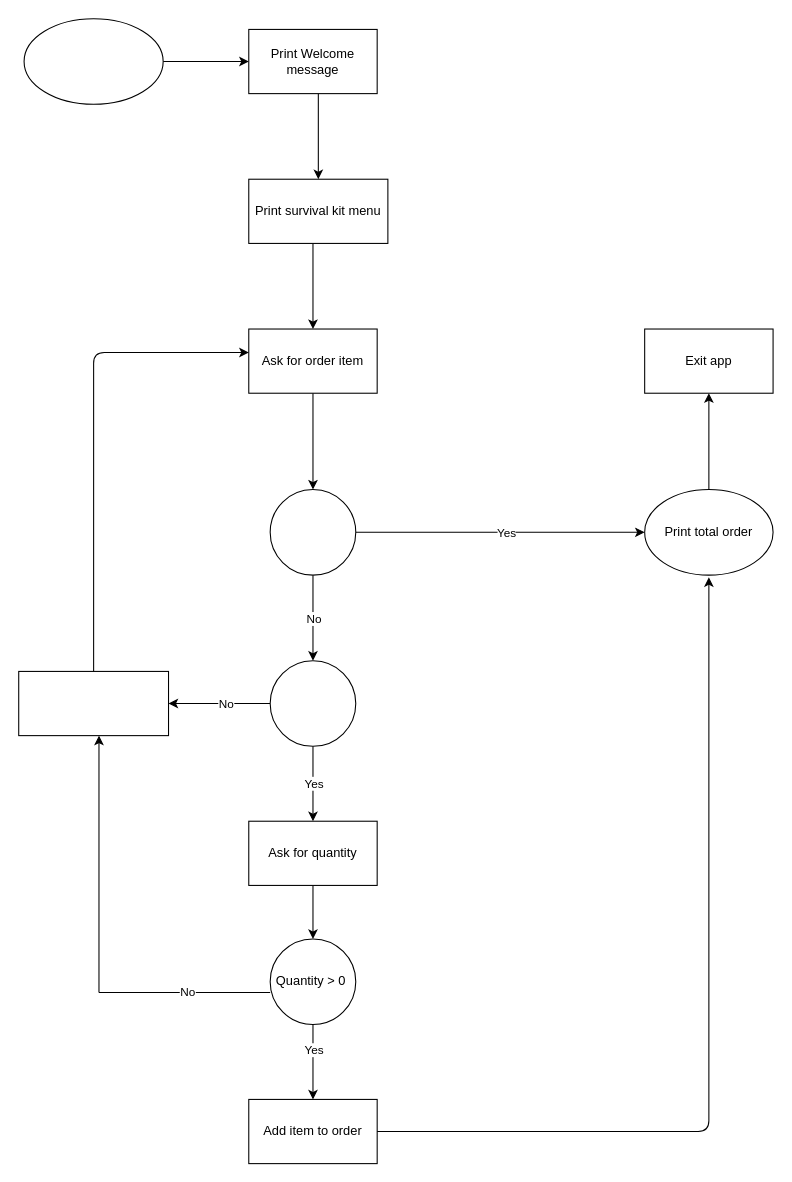
This 792x1182 diagram has some shape labels left out. The shapes that lost their labels are listed below. From the top down, each one's box as (x1, y1, x2, y2) in pixels, then its label:
(23, 18, 163, 104): Covid-19 Survival Kit
(269, 488, 356, 575): Is the user done
(18, 670, 169, 736): Notify of item is invalid
(269, 660, 356, 746): Is the item valid
